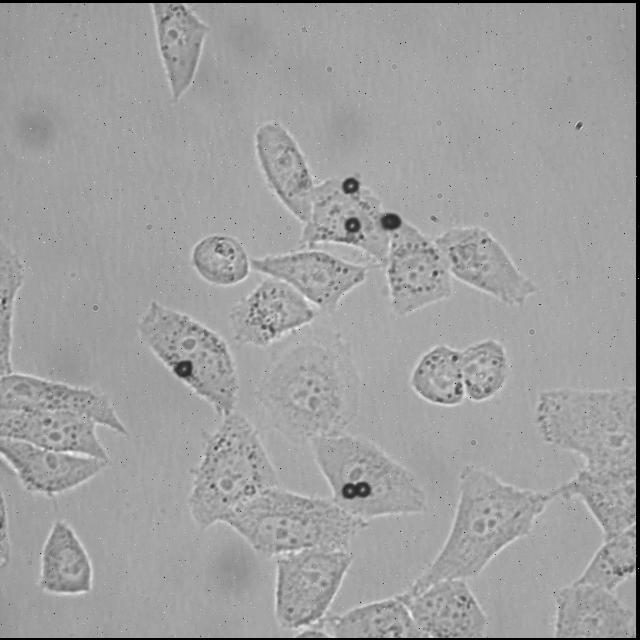microbeads: (172, 358, 194, 382), (356, 480, 376, 502), (341, 176, 362, 196), (340, 479, 362, 498), (340, 213, 360, 233)
